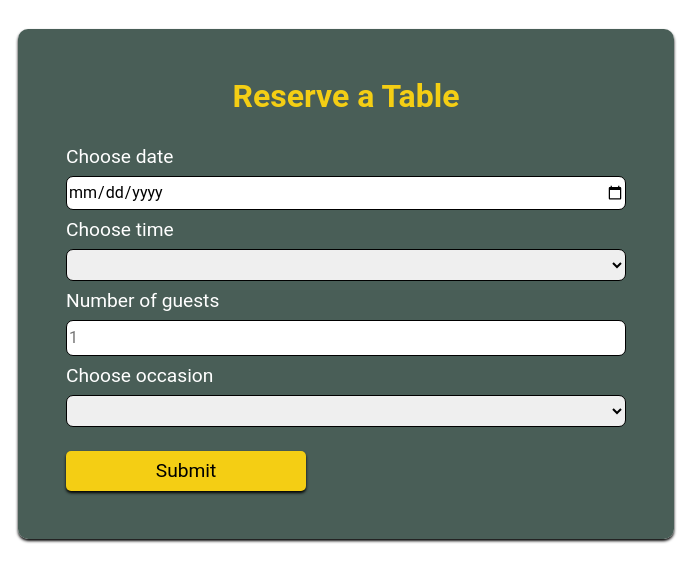
Test case: Guests validation [All Invalid] › maximum
The image size is (693, 573).
Type "11" into the number field labelled "Number of guests" at (346, 338), box [66,320,626,356]
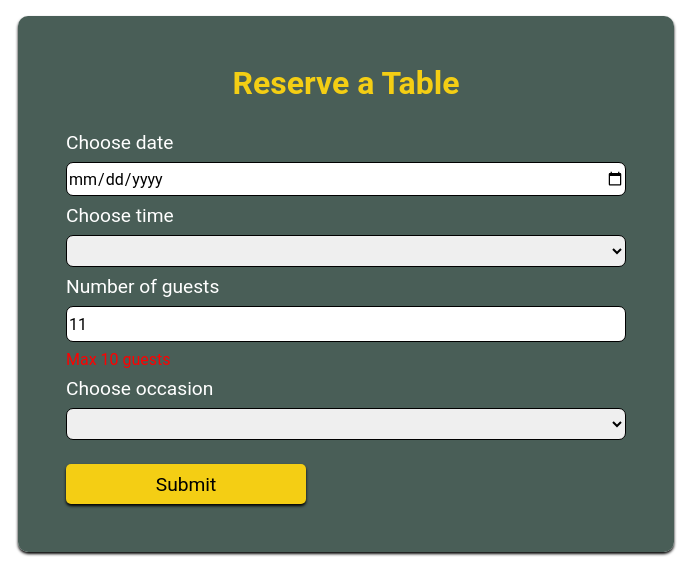
Result: the text with test id "guests-error" reads "Max 10 guests" at [66,350,171,369]
